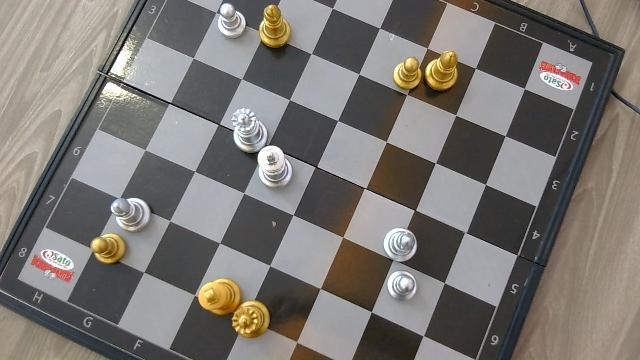black_bishop: (258, 2, 291, 49), (426, 48, 460, 92)
black_king: (196, 278, 232, 314)
black_pawn: (89, 233, 127, 266), (394, 56, 422, 92)
black_queen: (233, 300, 272, 339)
white_bishop: (111, 195, 150, 231), (383, 225, 418, 262)
white_king: (257, 144, 293, 189)
white_pawn: (217, 2, 246, 37), (387, 269, 417, 301)
white_queen: (231, 107, 262, 147)
